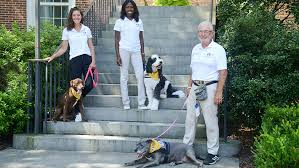person: (198, 21, 218, 45), (123, 1, 137, 20), (70, 8, 83, 23)
